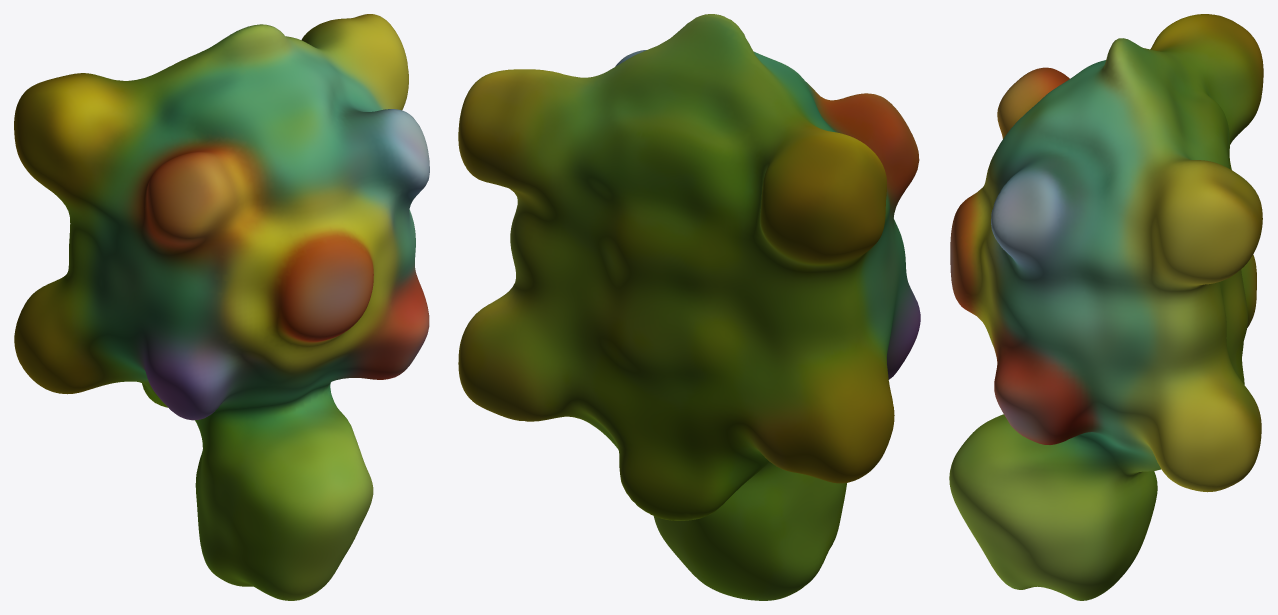
Rendered from turtle.glb.
3 views of the same model, side by side, from view 1: azimuth 30°, elevation 25°; view 2: azimuth 150°, elevation 25°; view 3: azimuth 270°, elevation 25° (orthographic). The views are drawn at different scales.
Bounding box in the file's own units: 0.7231 × 0.9992 × 0.5144.
